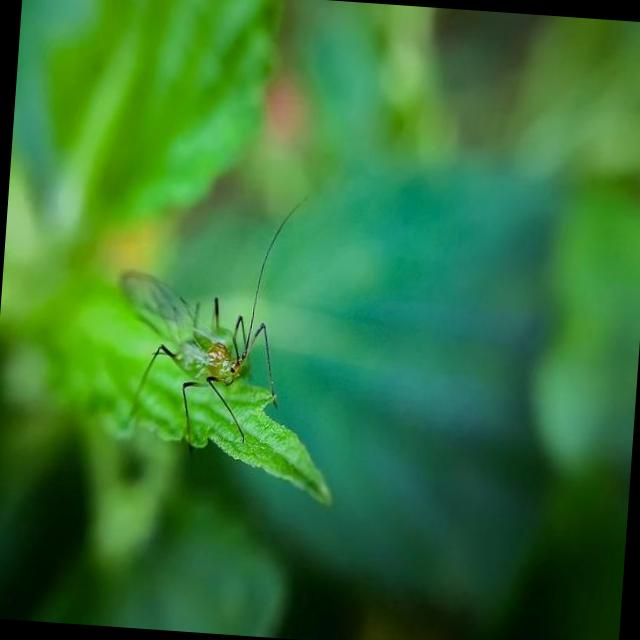aphid: (110, 258, 290, 420)
